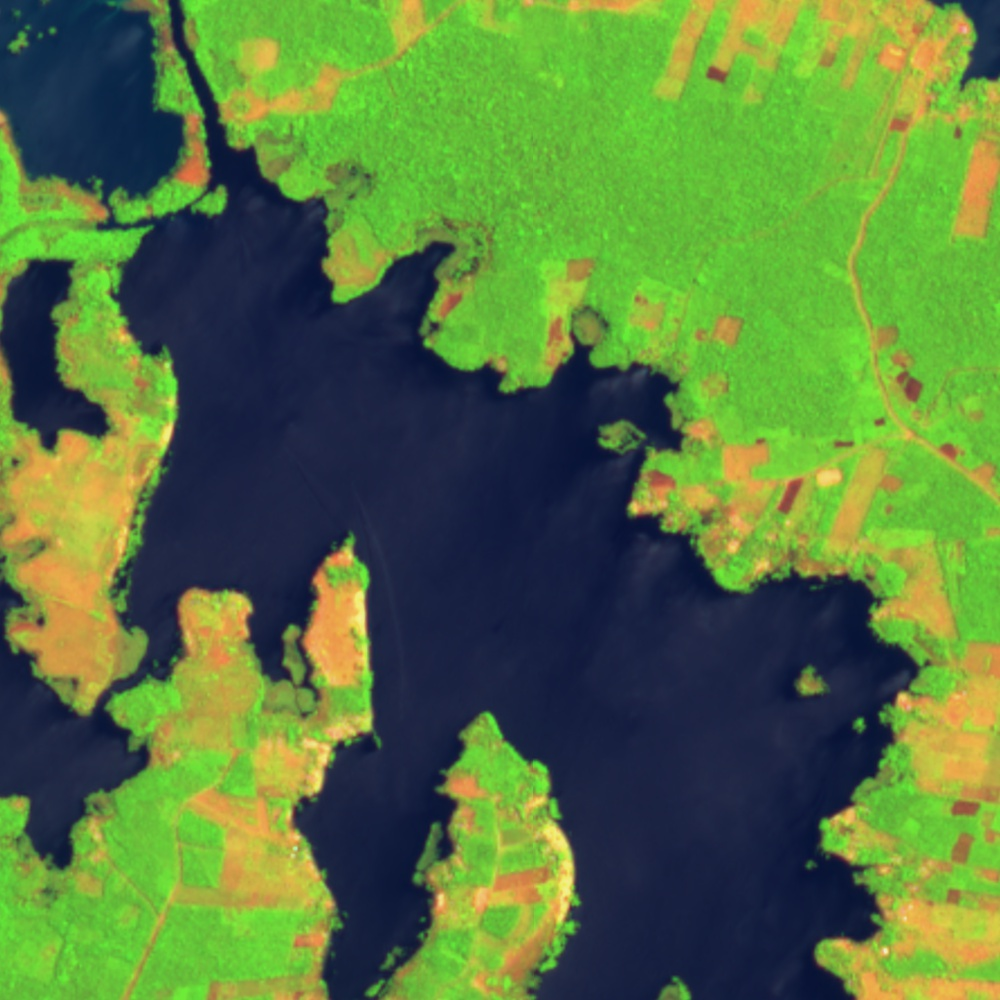legal: (633, 415, 971, 649), (1, 406, 155, 702), (662, 1, 980, 131), (273, 531, 371, 793), (464, 799, 581, 996), (174, 788, 329, 909), (405, 212, 497, 352), (173, 584, 271, 714), (208, 35, 350, 121), (550, 254, 615, 380), (954, 82, 1000, 238), (423, 829, 478, 936), (72, 791, 122, 899), (868, 320, 926, 411), (949, 827, 1000, 923), (642, 346, 731, 401), (112, 310, 159, 404), (441, 764, 505, 827), (463, 1, 666, 20), (387, 1, 434, 59), (695, 312, 750, 349), (949, 784, 1000, 821), (633, 292, 671, 333), (479, 351, 517, 375)
